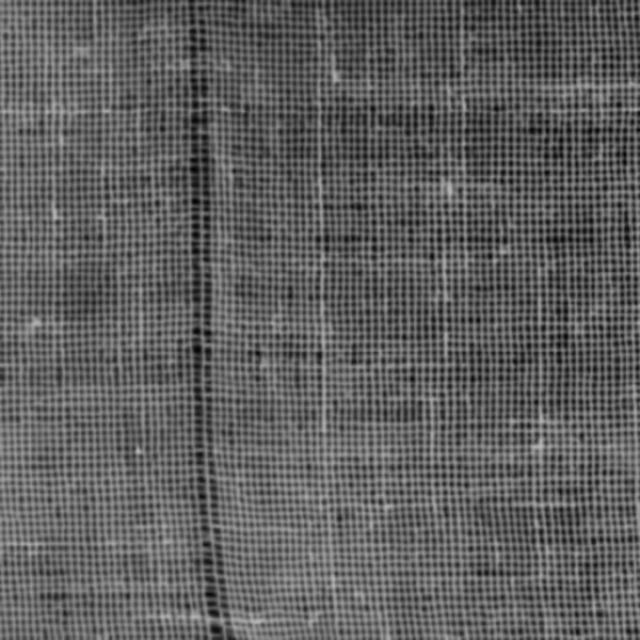Thread_other: (76, 7, 345, 640)
